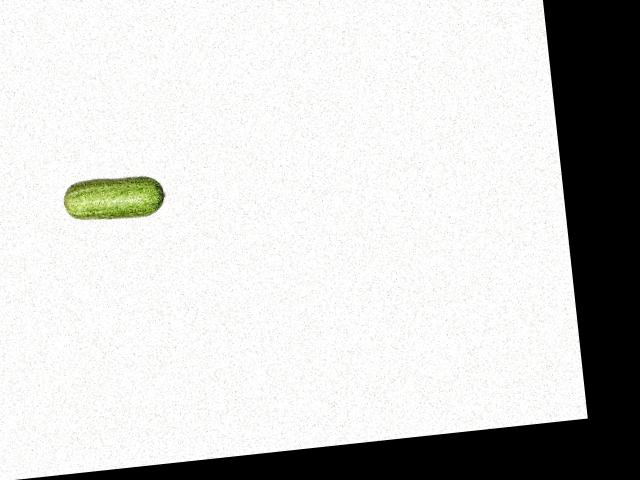cucumber: (62, 172, 167, 224)
